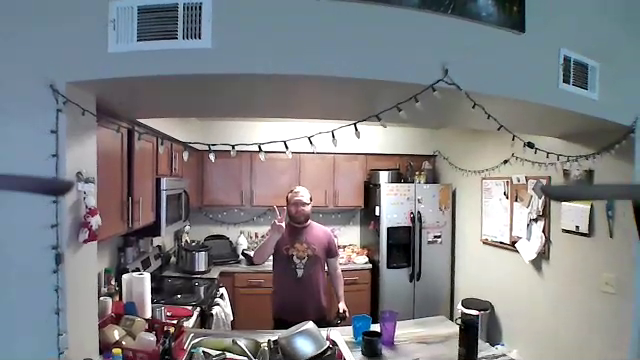peace: (267, 204, 290, 241)
